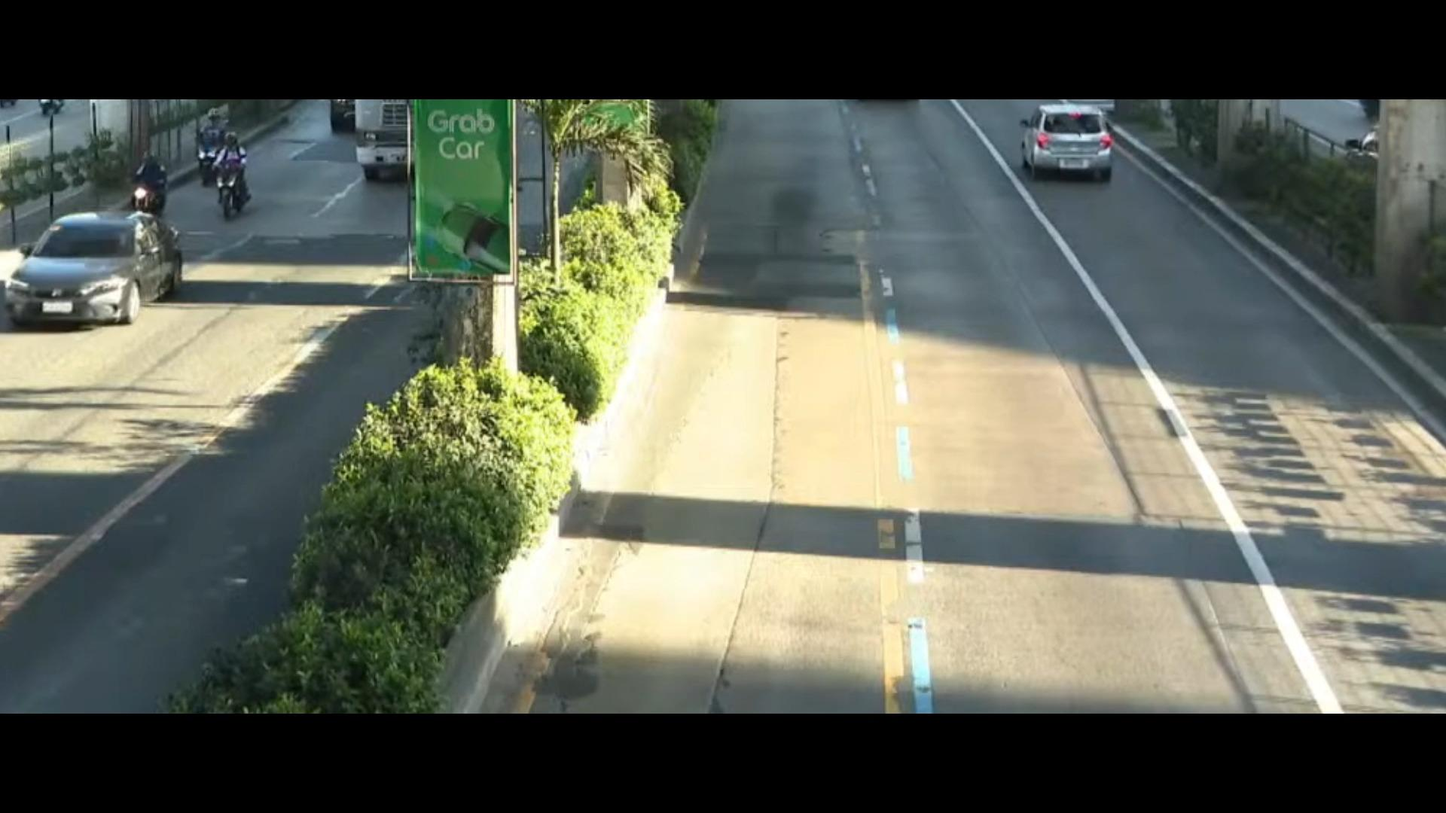Motorcycle: (183, 130, 268, 223), (105, 143, 187, 221), (192, 113, 238, 169)
Sedan: (6, 207, 194, 342), (1025, 104, 1132, 190)
Truck: (347, 101, 418, 170)
